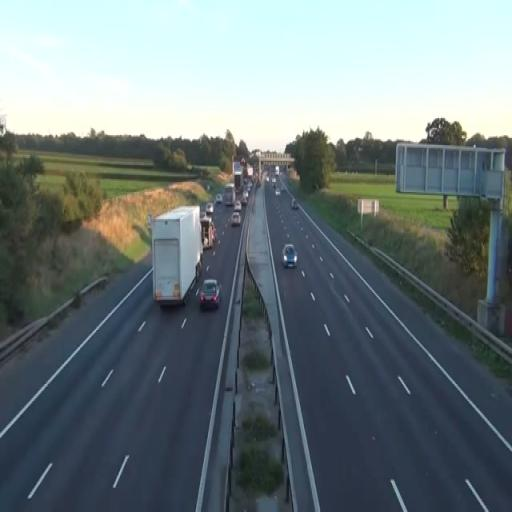Car: (198, 279, 222, 311), (282, 244, 297, 268), (231, 211, 242, 227)
Truck: (150, 205, 204, 307), (200, 217, 215, 249), (222, 183, 236, 207)
